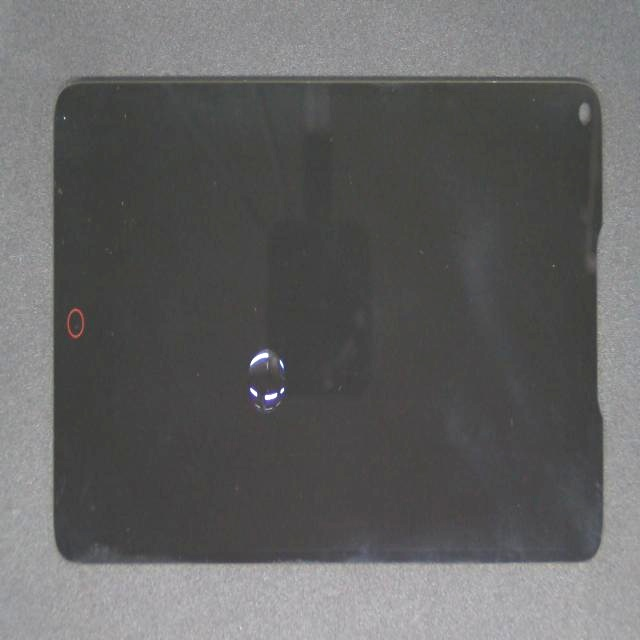oil: (153, 158, 381, 537)
